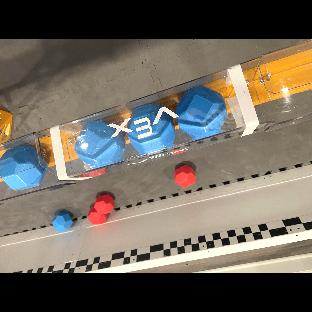V5_BLUE: (52, 212, 72, 231)
V5_RED: (171, 164, 198, 187), (92, 193, 116, 213), (87, 209, 107, 223)
blueingoal: (173, 90, 231, 136), (0, 145, 49, 193), (71, 121, 124, 165), (127, 106, 177, 150)
